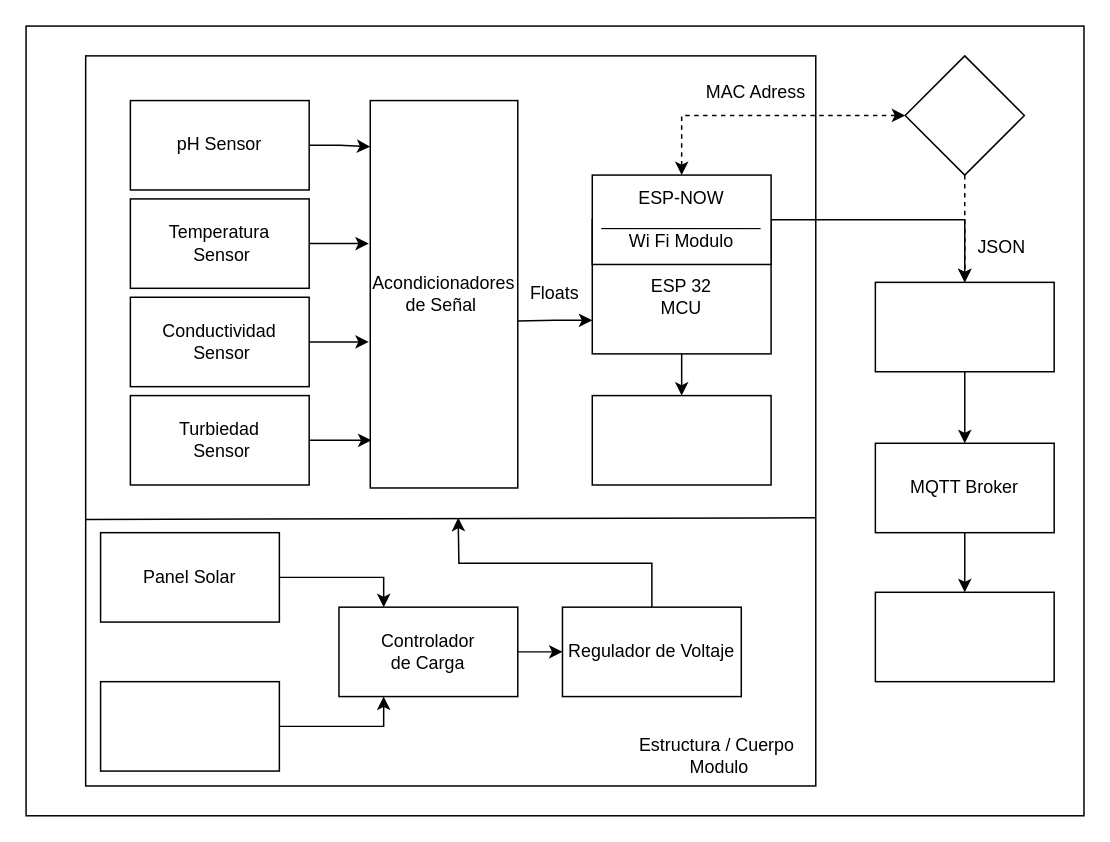
This 1110x842 diagram has some shape labels left out. Each missing label, with the centre of its shape:
"Bateria" belongs at (189,725).
"Otra ERP 32" belongs at (964,114).
"Page Web o App para visualizar la Data" belongs at (964,636).
"Pantalla OLED" belongs at (681,439).
"Web Server" belongs at (964,326).
